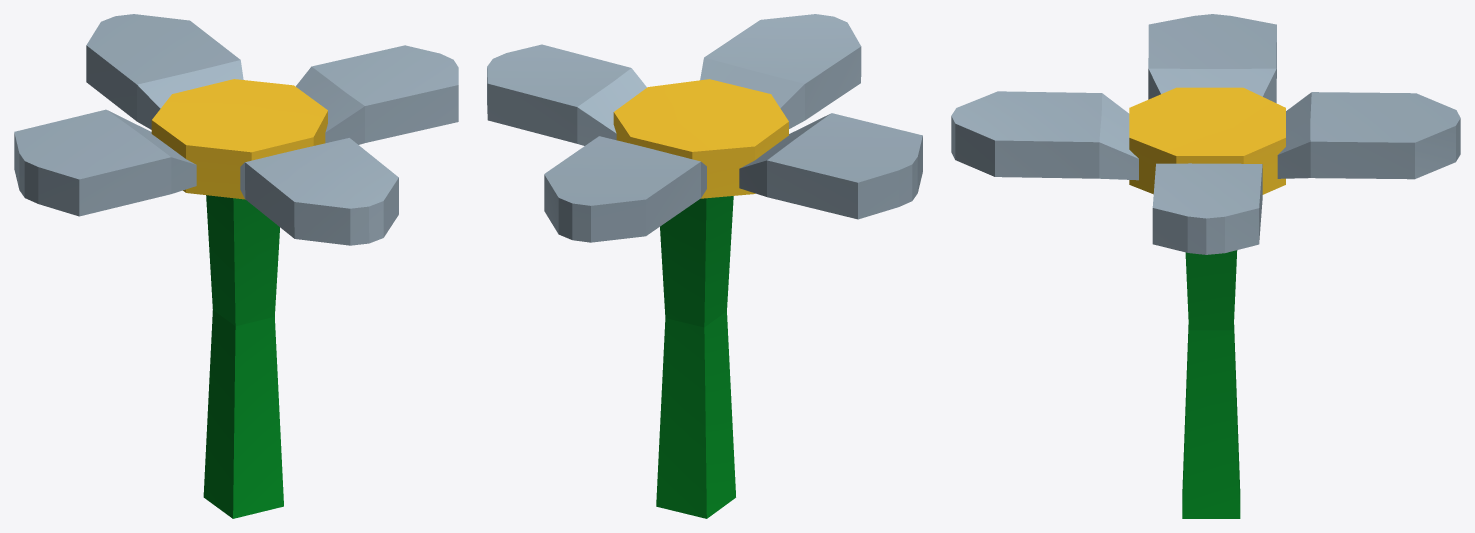
The model's file is Flor3.fbx.
3 renders of one model, left to right at view 1: azimuth 30°, elevation 25°; view 2: azimuth 150°, elevation 25°; view 3: azimuth 270°, elevation 25°, orthographic.
Visible parts, largest first — view 1: Flor3; view 2: Flor3; view 3: Flor3.
Part boxes in pixels (box(x1,y1,x2,y2)): Flor3: box(14, 14, 458, 518); Flor3: box(487, 14, 922, 518); Flor3: box(951, 14, 1460, 518).
Bounding box in the file's own units: 1666 × 1754 × 1474.
